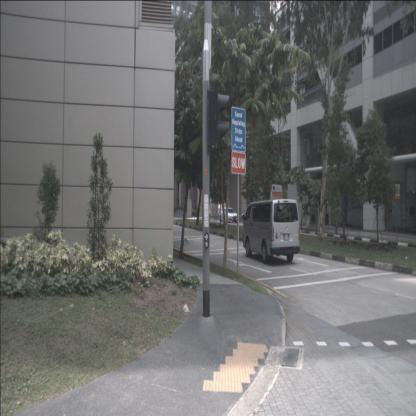human-pedestrian-adult: (192, 206, 194, 218)
vehicle-car: (242, 199, 300, 264), (219, 207, 238, 224)
